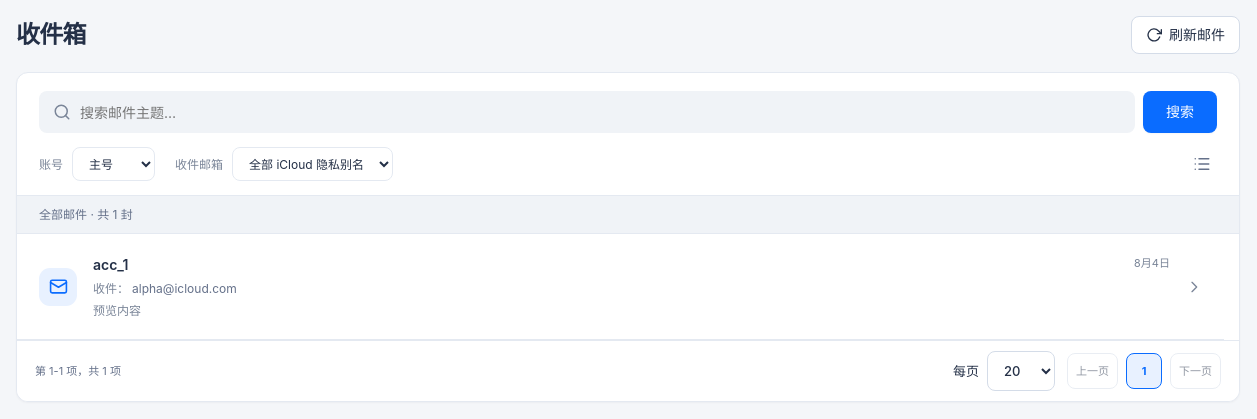
Test: InboxPage › 后台账号刷新不会覆盖用户刚选择的账号
Step 1. Select "备用号" in the dropdown labelled "账号" → x=114, y=164, box x1=72 y1=147 x2=155 y2=181
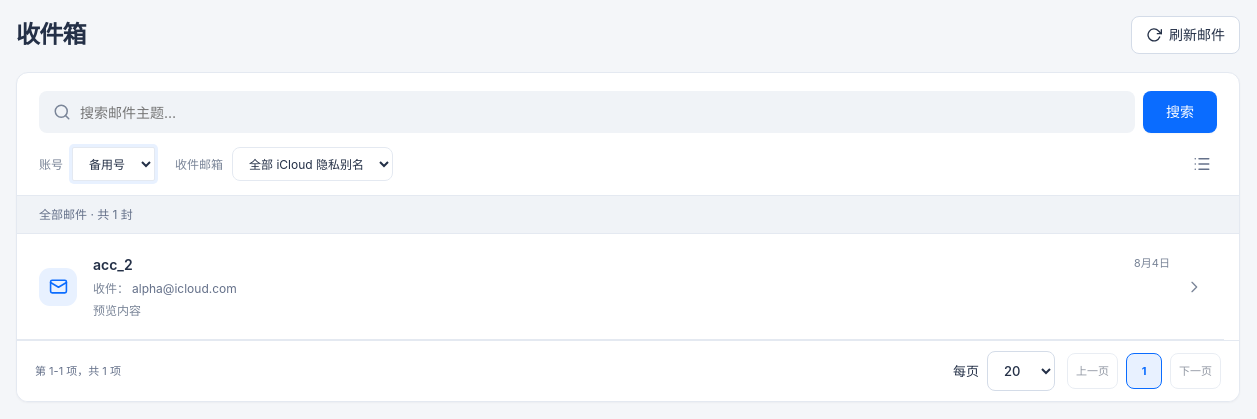
Result: the text "acc_2" is shown at x1=93 y1=256 x2=133 y2=273
